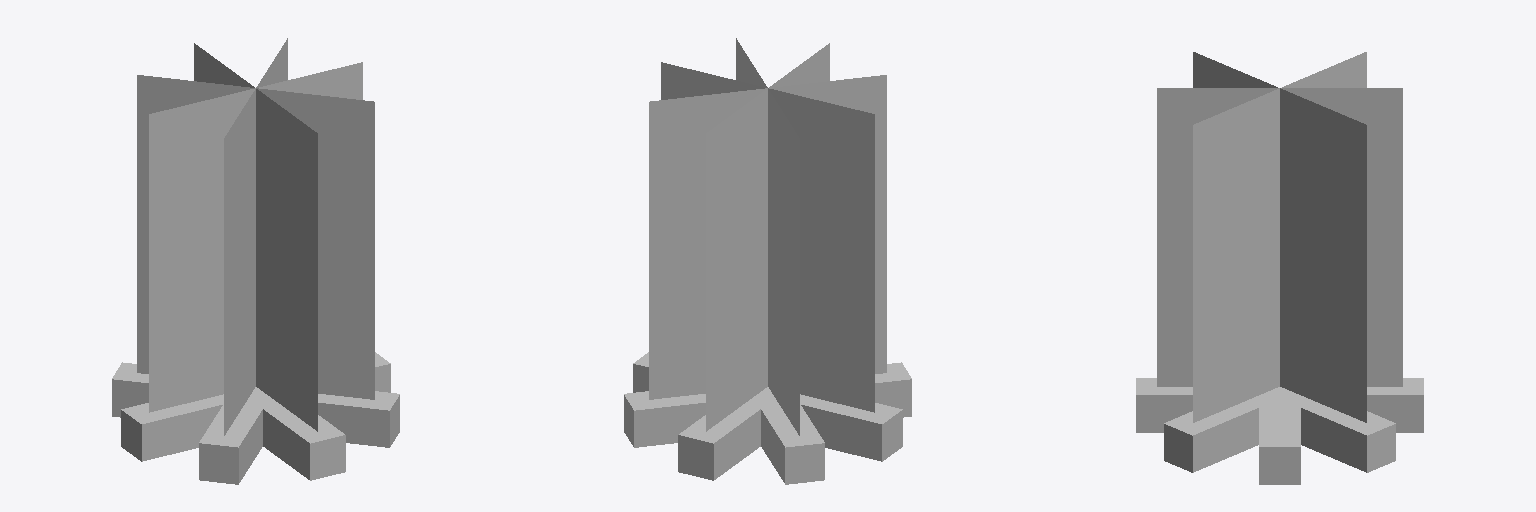
Rendered from Campfire.obj.
3 views of the same model, side by side, from view 1: azimuth 30°, elevation 25°; view 2: azimuth 150°, elevation 25°; view 3: azimuth 270°, elevation 25° (orthographic).
Parts seen in each view (by area): view 1: 9d61d0d7-0239-dc39-2719-c0b91a49b150, ff68e0d6-915b-94d9-f12a-f4835c17618b, b0308afb-c093-0a81-4f64-3182ea1b0b3e, d[number redacted]-372e-0c06-5245-a92b62d91430, 54eda24e-f5d4-2806-da8e-da956424b094, e7215b9a-0d7c-c2a2-bfe8-378f05d35da2, ba814d2f-438b-8916-1271-44be823d7c64, 5dc622c4-0c49-325e-795e-b447de4f3e2d; view 2: 9d61d0d7-0239-dc39-2719-c0b91a49b150, d[number redacted]-372e-0c06-5245-a92b62d91430, b0308afb-c093-0a81-4f64-3182ea1b0b3e, ff68e0d6-915b-94d9-f12a-f4835c17618b, 54eda24e-f5d4-2806-da8e-da956424b094, 5dc622c4-0c49-325e-795e-b447de4f3e2d, ba814d2f-438b-8916-1271-44be823d7c64, e7215b9a-0d7c-c2a2-bfe8-378f05d35da2; view 3: d[number redacted]-372e-0c06-5245-a92b62d91430, ff68e0d6-915b-94d9-f12a-f4835c17618b, b0308afb-c093-0a81-4f64-3182ea1b0b3e, 5dc622c4-0c49-325e-795e-b447de4f3e2d, e7215b9a-0d7c-c2a2-bfe8-378f05d35da2, ba814d2f-438b-8916-1271-44be823d7c64, 54eda24e-f5d4-2806-da8e-da956424b094.
Part boxes in pixels (x1,y1,x2,y2): 9d61d0d7-0239-dc39-2719-c0b91a49b150: (149,62,362,412); ff68e0d6-915b-94d9-f12a-f4835c17618b: (137,75,374,399); b0308afb-c093-0a81-4f64-3182ea1b0b3e: (194,43,317,431); d[number redacted]-372e-0c06-5245-a92b62d91430: (224,38,287,435); 54eda24e-f5d4-2806-da8e-da956424b094: (121,352,390,461); e7215b9a-0d7c-c2a2-bfe8-378f05d35da2: (112,362,399,447); ba814d2f-438b-8916-1271-44be823d7c64: (249,387,345,480); 5dc622c4-0c49-325e-795e-b447de4f3e2d: (199,389,263,484); 9d61d0d7-0239-dc39-2719-c0b91a49b150: (661,62,874,412); d[number redacted]-372e-0c06-5245-a92b62d91430: (649,75,886,399); b0308afb-c093-0a81-4f64-3182ea1b0b3e: (706,43,829,431); ff68e0d6-915b-94d9-f12a-f4835c17618b: (736,38,799,435); 54eda24e-f5d4-2806-da8e-da956424b094: (633,352,902,461); 5dc622c4-0c49-325e-795e-b447de4f3e2d: (624,362,911,447); ba814d2f-438b-8916-1271-44be823d7c64: (678,387,774,480); e7215b9a-0d7c-c2a2-bfe8-378f05d35da2: (758,389,824,484); d[number redacted]-372e-0c06-5245-a92b62d91430: (1193,52,1366,422); ff68e0d6-915b-94d9-f12a-f4835c17618b: (1193,52,1366,422); b0308afb-c093-0a81-4f64-3182ea1b0b3e: (1157,88,1402,386); 5dc622c4-0c49-325e-795e-b447de4f3e2d: (1268,388,1395,472); e7215b9a-0d7c-c2a2-bfe8-378f05d35da2: (1164,396,1258,472); ba814d2f-438b-8916-1271-44be823d7c64: (1136,378,1423,432); 54eda24e-f5d4-2806-da8e-da956424b094: (1259,387,1300,484).
Size of the model in its own units: 14 by 18 by 14.